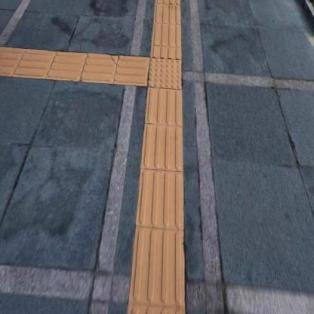Podoctatil: (127, 90, 188, 314), (0, 46, 148, 88), (132, 35, 197, 107), (150, 0, 184, 57)
